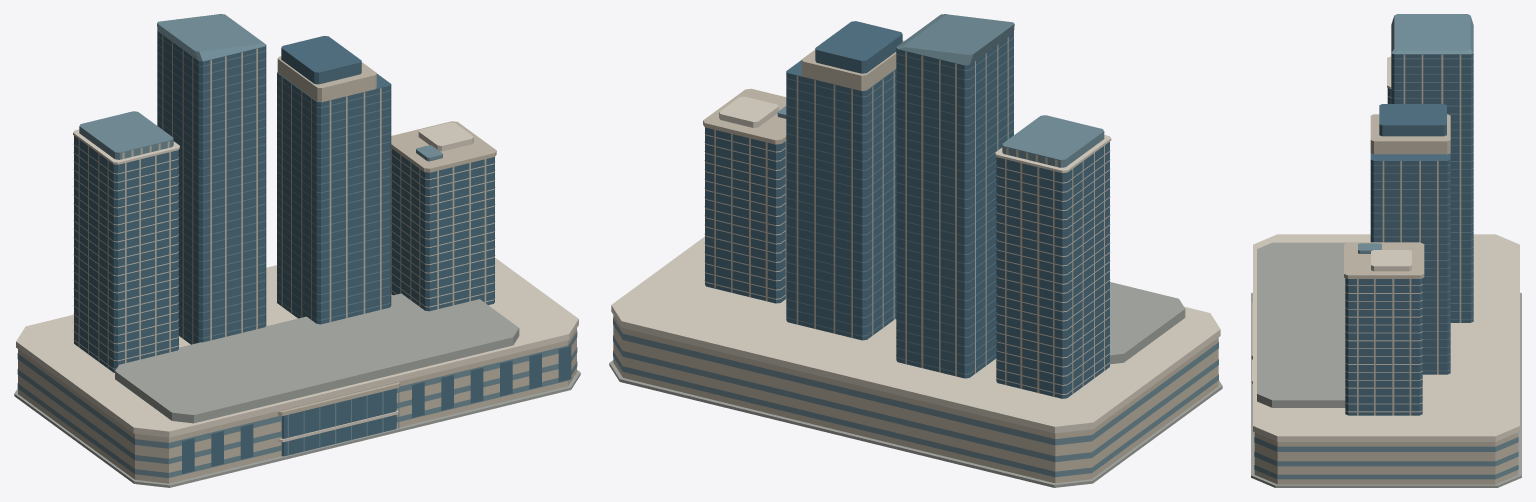
File: landmark_southkey.glb
3 renders of one model, left to right at view 1: azimuth 30°, elevation 25°; view 2: azimuth 150°, elevation 25°; view 3: azimuth 270°, elevation 25°, orthographic. The views are drawn at different scales.
Parts seen in each view (by area): view 1: landmark_southkey; view 2: landmark_southkey; view 3: landmark_southkey.
Part boxes in pixels (<box>): landmark_southkey: <box>14,14,580,487</box>; landmark_southkey: <box>609,14,1222,487</box>; landmark_southkey: <box>1251,14,1521,487</box>.
Size of the model in its own units: 198 by 150 by 112.
